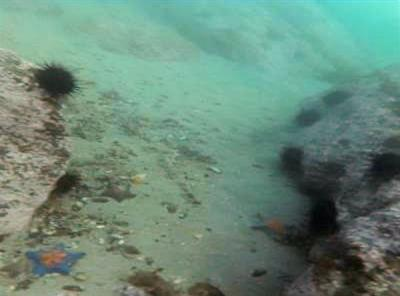urchin: (34, 61, 79, 97), (373, 148, 400, 175)
